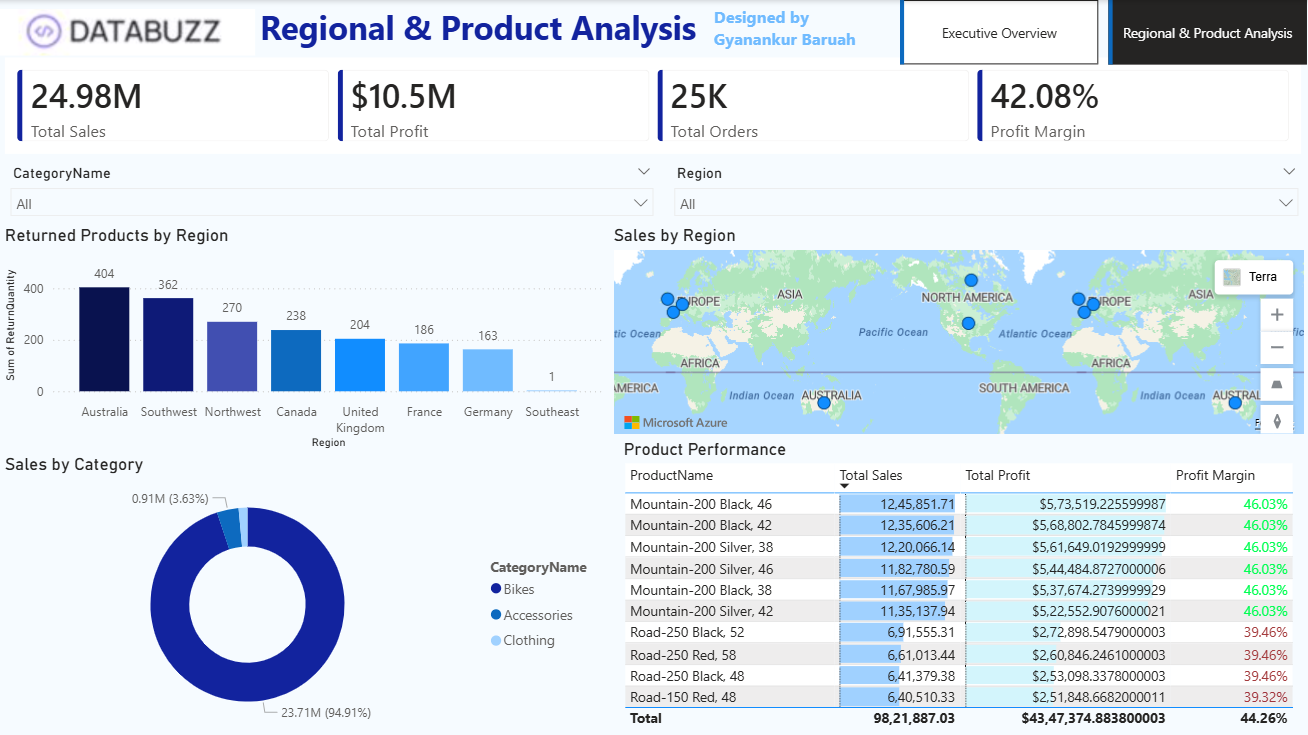

The dashboard page shown, as its layout file describes it:
{"tool":"powerbi","page":{"name":"Regional & Product Analysis","canvas":[1280,720],"ordinal":1},"visuals":[{"type":"azureMap","title":"Sales by Region","fields":{"Category":["Dim_Territory.Country"],"Size":["Measures (2).Total Sales"]},"box":[595.5,220.1,684.8,209.1],"z":0},{"type":"textbox","box":[249.7,0,443.2,63.1],"z":1},{"type":"donutChart","title":"Sales by Category","fields":{"Category":["Dim_Product_Category.CategoryName"],"Y":["Measures (2).Total Sales"]},"box":[0,443.9,595.5,276.4],"z":2},{"type":"clusteredColumnChart","title":"Returned Products by Region","fields":{"Category":["Dim_Territory.Region"],"Y":["Sum(Dim_Returns.ReturnQuantity)"]},"box":[0,219.6,595.5,223.7],"z":3},{"type":"tableEx","title":"Product Performance","fields":{"Values":["Dim_Product.ProductName","Measures (2).Total Sales","Measures (2).Total Profit","Measures (2).Profit Margin"]},"box":[605.3,429.2,675,291],"z":4},{"type":"slicer","fields":{"Values":["Dim_Product_Category.CategoryName"]},"box":[0,155.1,649.1,63.1],"z":5},{"type":"slicer","fields":{"Values":["Dim_Territory.Region"]},"box":[649.3,155.3,631,64.8],"z":6},{"type":"cardVisual","fields":{"Data":["Measures (2).Total Sales","Measures (2).Total Profit","Measures (2).Total Orders","Measures (2).Profit Margin"]},"box":[0,50.8,1280.3,104.3],"z":7},{"type":"pageNavigator","box":[881,0,399.3,63.1],"z":8},{"type":"image","box":[0,0,249.7,63.1],"z":9},{"type":"textbox","box":[693,0,188,63.1],"z":10}]}

Visuals, with their boxes in screenshot pixels (x1, y1, x2, y2), scaled from the page's 1280x720 canvas onto the 1308x735 screenshot:
"Sales by Region" azureMap: bbox=(609, 225, 1307, 438)
textbox: bbox=(255, 0, 708, 64)
"Sales by Category" donutChart: bbox=(0, 453, 609, 734)
"Returned Products by Region" clusteredColumnChart: bbox=(0, 224, 609, 453)
"Product Performance" tableEx: bbox=(619, 438, 1307, 734)
slicer - Dim_Product_Category.CategoryName: bbox=(0, 158, 663, 223)
slicer - Dim_Territory.Region: bbox=(664, 159, 1307, 225)
cardVisual - Measures (2).Total Sales x Measures (2).Total Profit: bbox=(0, 52, 1307, 158)
pageNavigator: bbox=(900, 0, 1307, 64)
image: bbox=(0, 0, 255, 64)
textbox: bbox=(708, 0, 900, 64)
